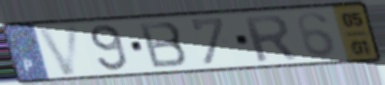6: (294, 10, 339, 60)
7: (188, 15, 228, 68)
9: (88, 23, 130, 73)
B: (136, 19, 191, 70)
R: (240, 13, 300, 64)
V: (34, 23, 83, 78)
